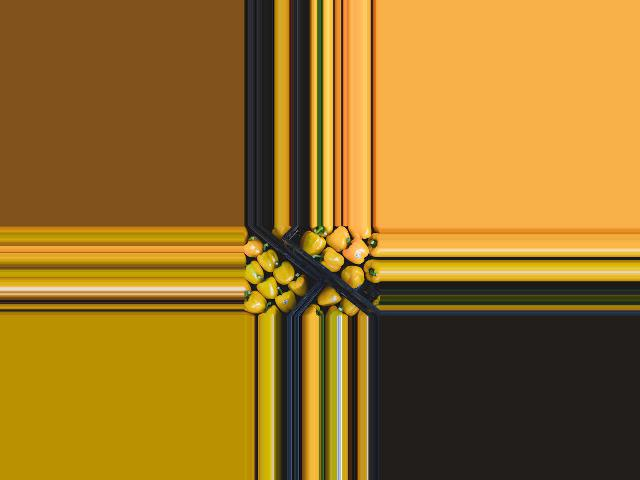bell_pepper: (244, 293, 271, 317)
